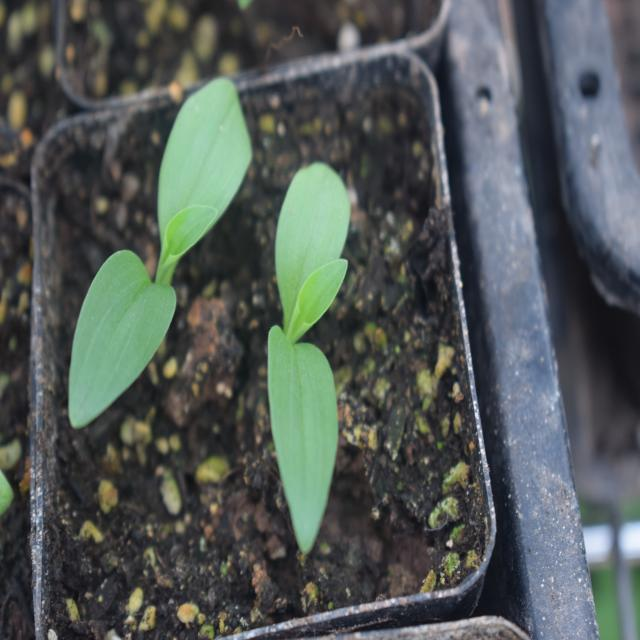Common Dayflower: (52, 73, 254, 396), (254, 162, 375, 544)
